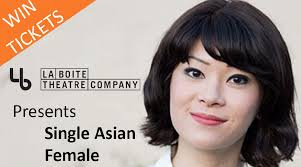asian_female: (143, 1, 287, 154)
